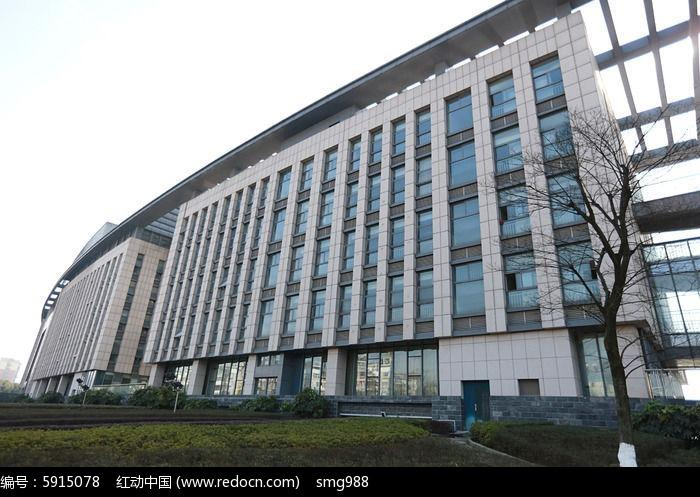buildings: (26, 71, 682, 400)
